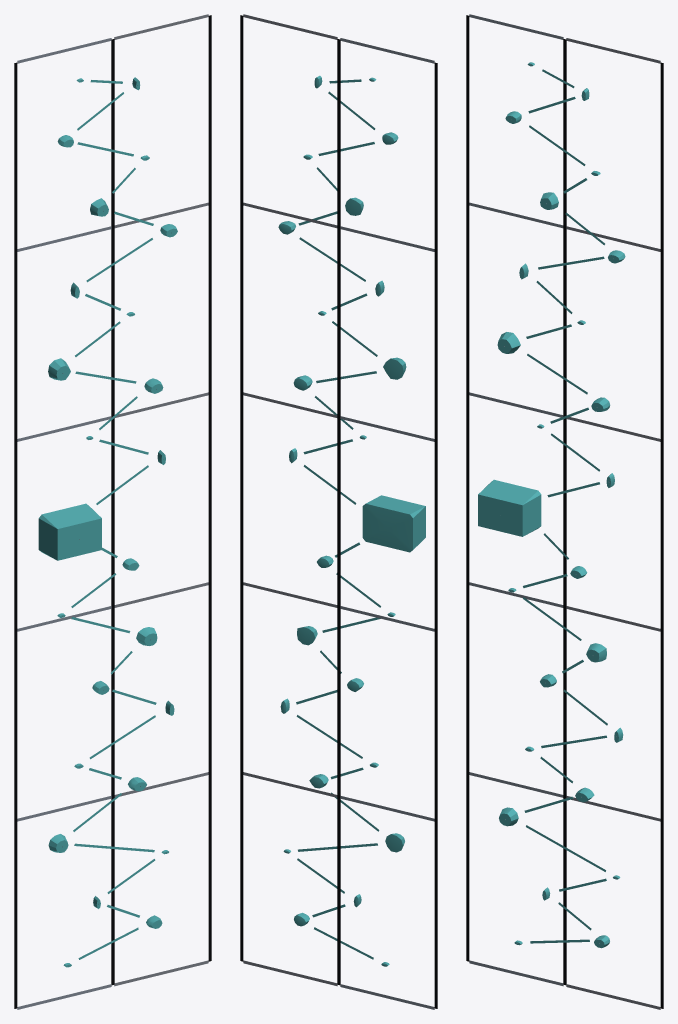
The model's file is tt_climb_lead_routes_f.glb.
3 views of the same model, side by side, from view 1: azimuth 30°, elevation 25°; view 2: azimuth 150°, elevation 25°; view 3: azimuth 330°, elevation 25° (orthographic).
Visible parts, largest first — view 1: Grid_Mullion, Holds_PU, Route_Tape, Grid_Course_L, Grid_Course_R; view 2: Grid_Mullion, Holds_PU, Route_Tape, Grid_Course_L, Grid_Course_R; view 3: Grid_Mullion, Holds_PU, Route_Tape, Grid_Course_L, Grid_Course_R.
Part boxes in pixels (bbox=[...]): Grid_Mullion: bbox=[14, 15, 211, 1008]; Holds_PU: bbox=[38, 77, 177, 967]; Route_Tape: bbox=[71, 80, 156, 959]; Grid_Course_L: bbox=[17, 38, 111, 1009]; Grid_Course_R: bbox=[114, 14, 208, 986]; Grid_Mullion: bbox=[240, 15, 437, 1008]; Holds_PU: bbox=[278, 75, 425, 966]; Route_Tape: bbox=[296, 79, 380, 959]; Grid_Course_L: bbox=[340, 38, 434, 1009]; Grid_Course_R: bbox=[243, 14, 337, 986]; Grid_Mullion: bbox=[466, 15, 663, 1008]; Holds_PU: bbox=[478, 62, 625, 948]; Route_Tape: bbox=[523, 69, 607, 943]; Grid_Course_L: bbox=[469, 14, 563, 986]; Grid_Course_R: bbox=[566, 38, 660, 1009].
Size of what is drawn, in the model's own units: 2.5 by 11.5 by 0.364.
5 materials, 2 textured.
